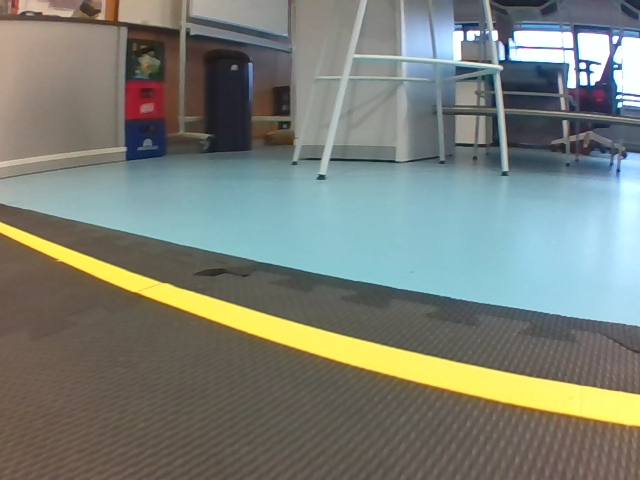30: (448, 53, 502, 135)
no30: (248, 92, 280, 125)
stop: (3, 118, 13, 147)
